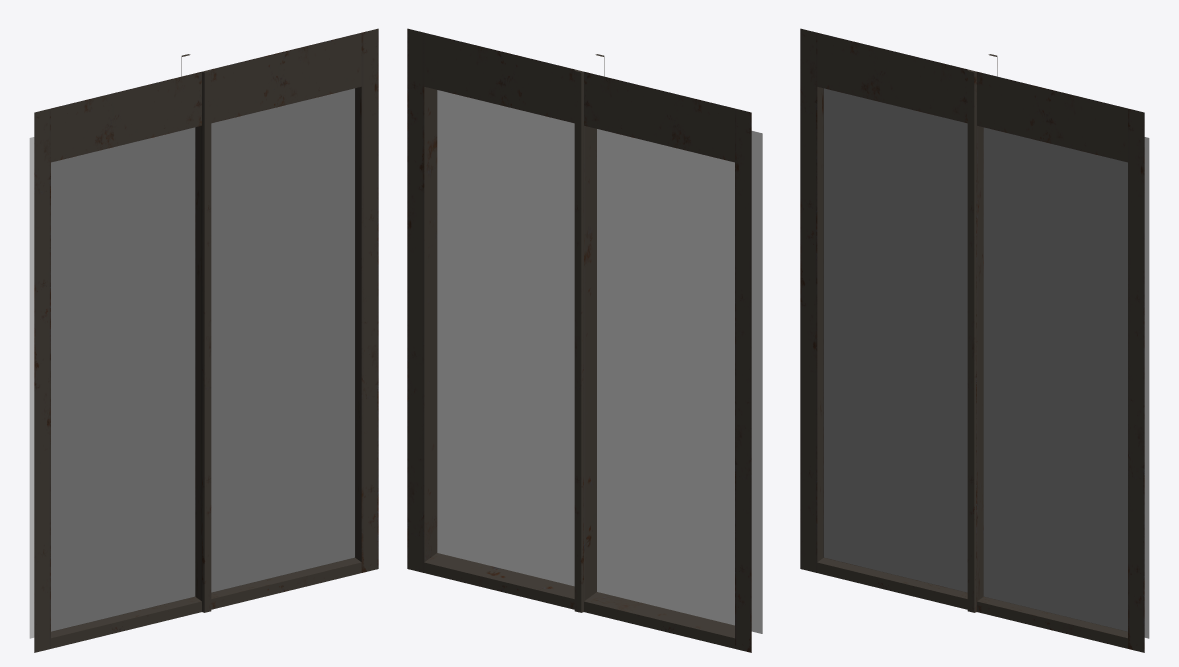
File: Metal_FullWindow.gltf
The picture shows the model from 3 angles, left to right: view 1: azimuth 30°, elevation 25°; view 2: azimuth 150°, elevation 25°; view 3: azimuth 330°, elevation 25°; orthographic projection.
Visible parts, largest first — view 1: Metal_FullWindow; view 2: Metal_FullWindow; view 3: Metal_FullWindow.
Part boxes in pixels (box(x1,y1,x2,y2)): Metal_FullWindow: box(29, 28, 378, 652); Metal_FullWindow: box(407, 28, 762, 652); Metal_FullWindow: box(800, 28, 1149, 652).
Bounding box in the file's own units: 2 × 3 × 0.2311.
3 materials, 1 textured.
